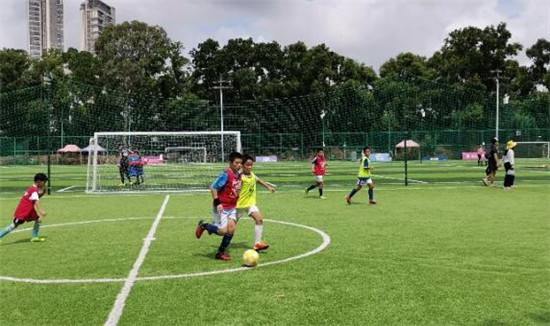football: (241, 250, 261, 269)
